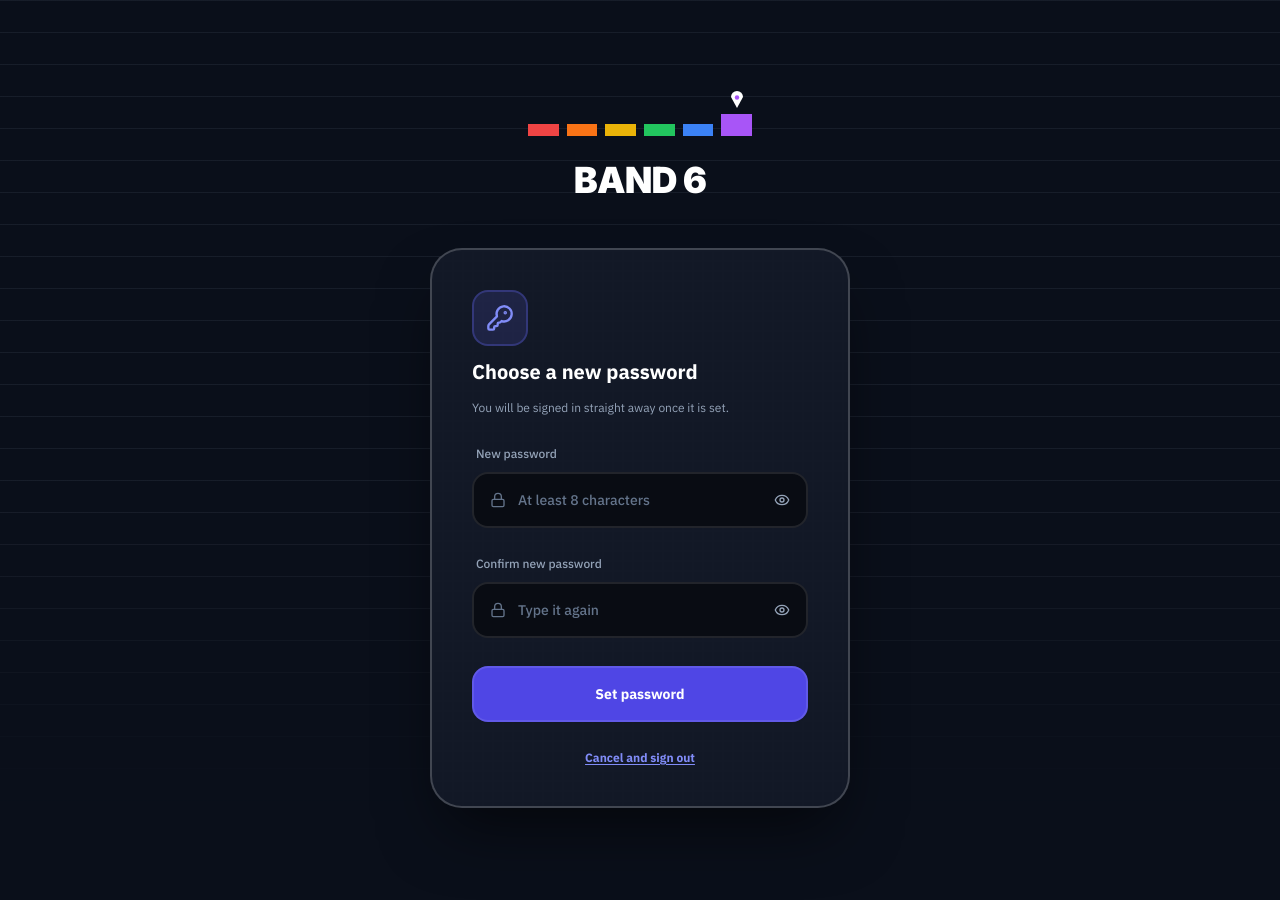
Test case: setting the new password › enforces the same minimum length as sign-up
In the password field labelled "New password": point(635, 500) [506,474,764,526], type "short"
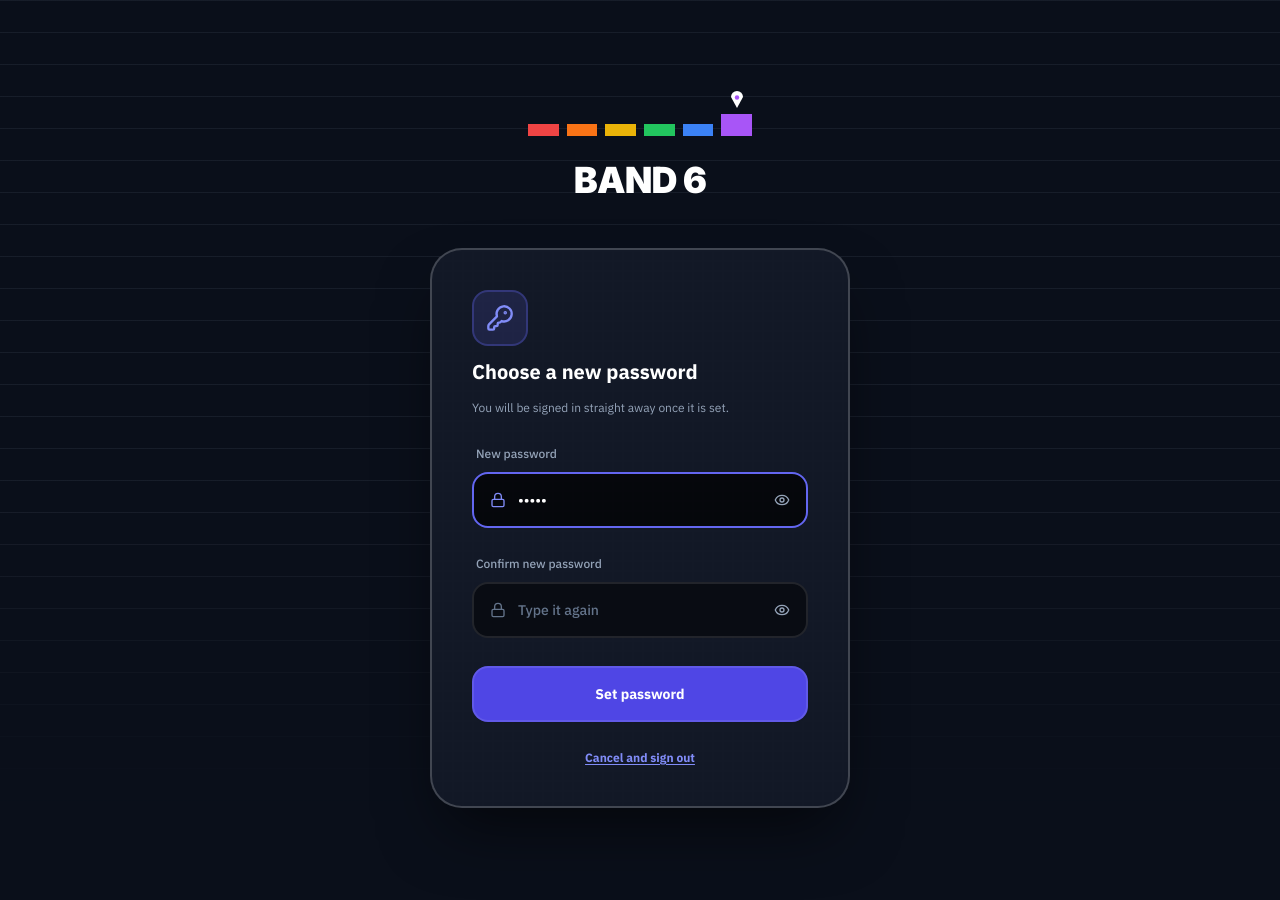
In the password field labelled "Confirm new password": point(635, 610) [506,584,764,636], type "short"
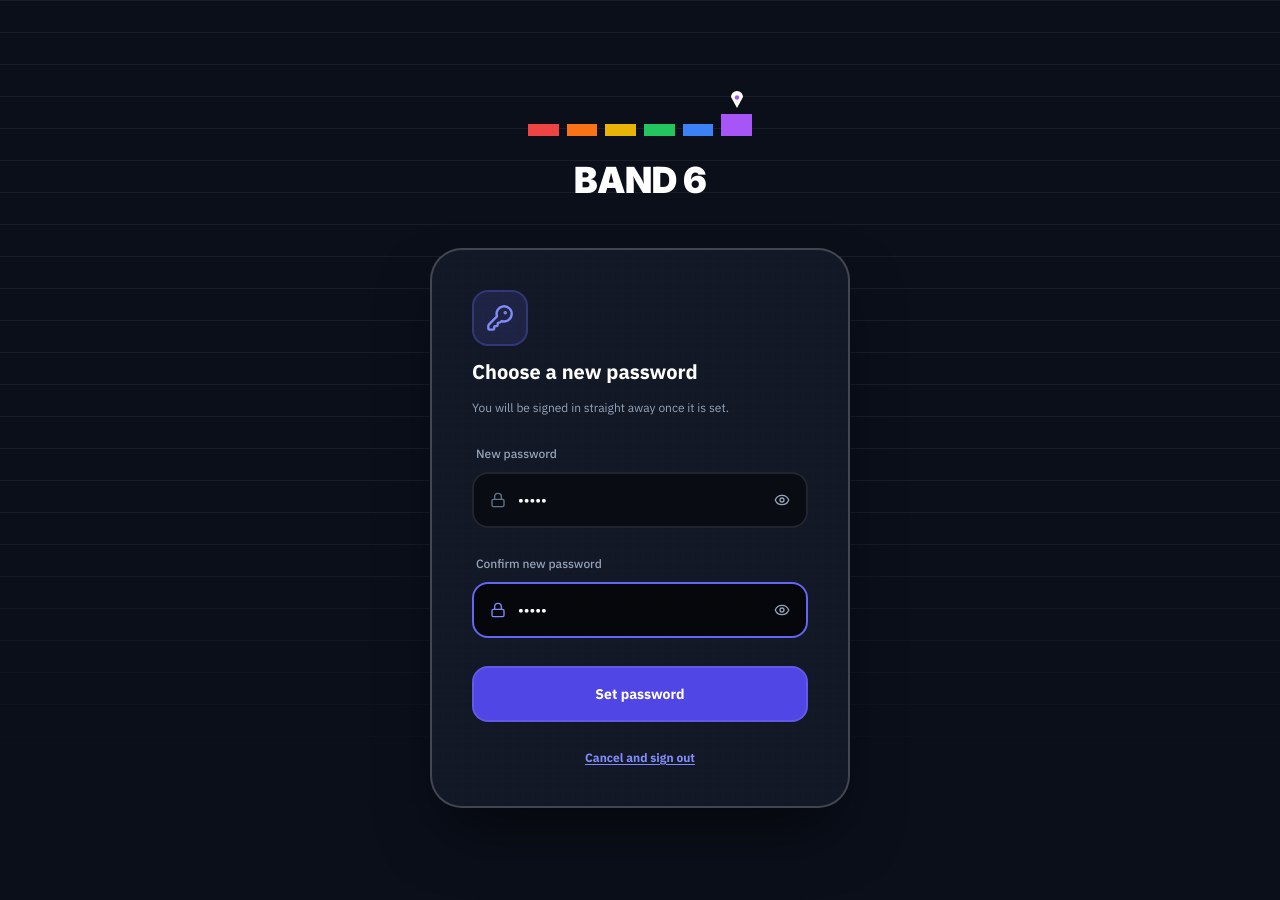
Click the button "Set password": point(640, 694) [472,666,808,722]
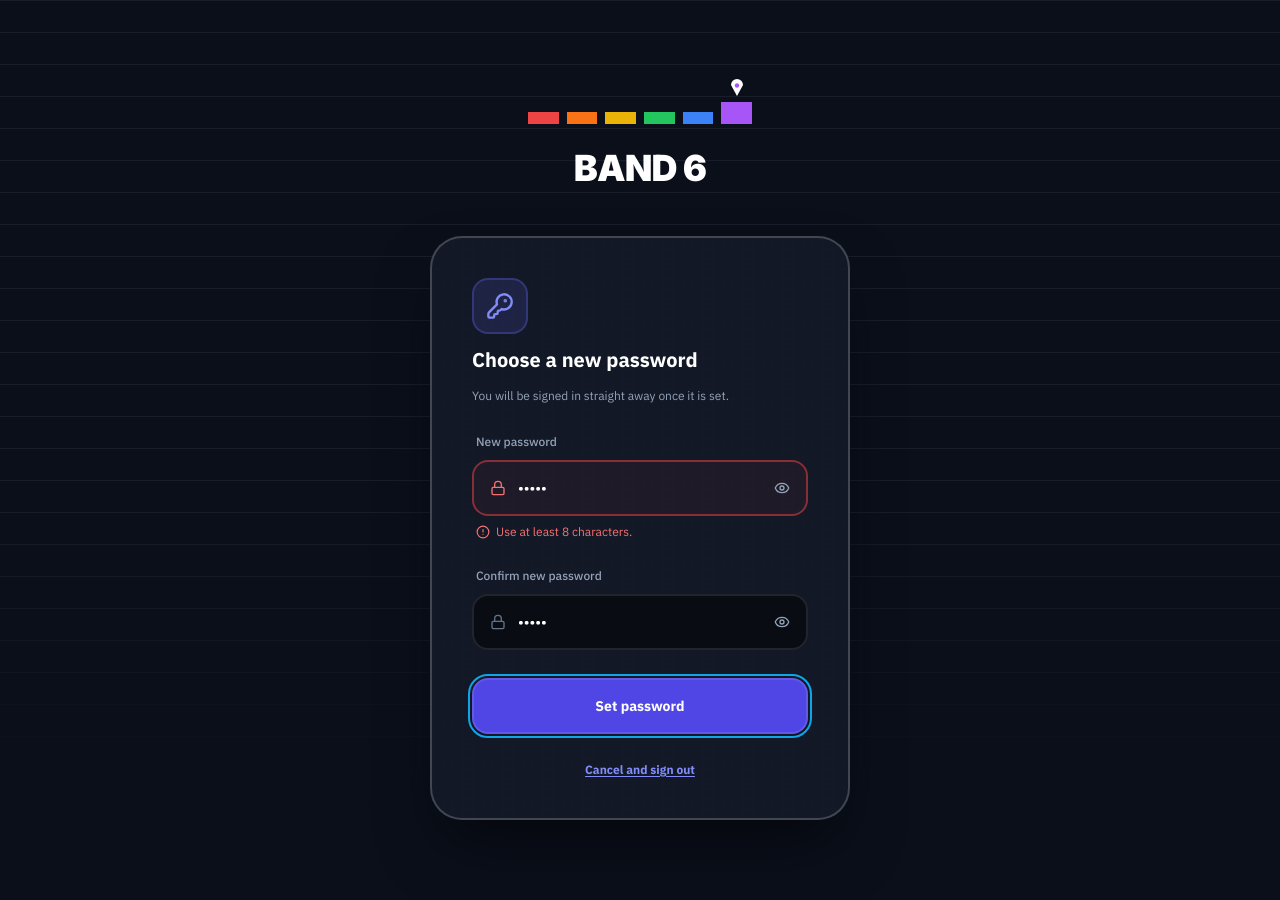
Expected: the text "Use at least 8 characters." is shown, [476,524,632,539]
